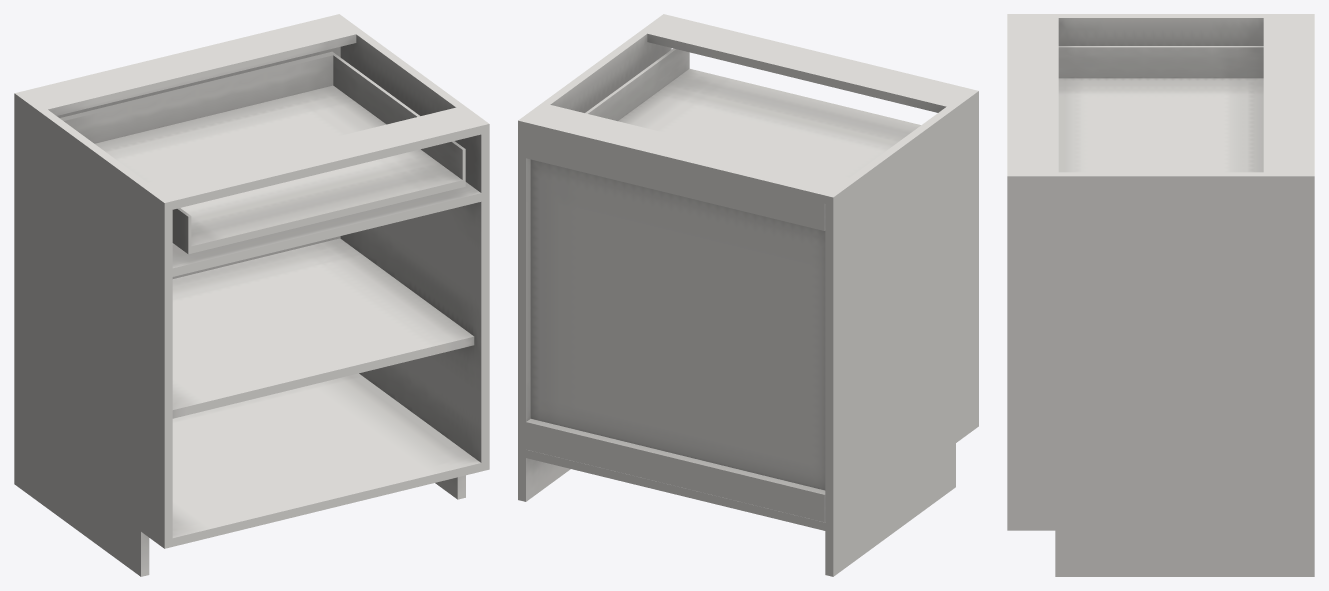
The model's file is 2-door-1-drawer-base-doors-off.glb.
The picture shows the model from 3 angles, left to right: view 1: azimuth 30°, elevation 25°; view 2: azimuth 150°, elevation 25°; view 3: azimuth 270°, elevation 25°; orthographic projection. The views are drawn at different scales.
Parts seen in each view (by area): view 1: part_0, part_5; view 2: part_0, part_5; view 3: part_0, part_5.
Boxes of the visible parts, x1,y1,x2,y2 form: part_0: (14, 14, 489, 576); part_5: (60, 51, 465, 254); part_0: (518, 14, 978, 576); part_5: (585, 48, 920, 177); part_0: (1007, 14, 1314, 576); part_5: (1058, 46, 1263, 172).
Size of the model in its own units: 0.762 by 0.8763 by 0.6096.
2 materials, 1 textured.
